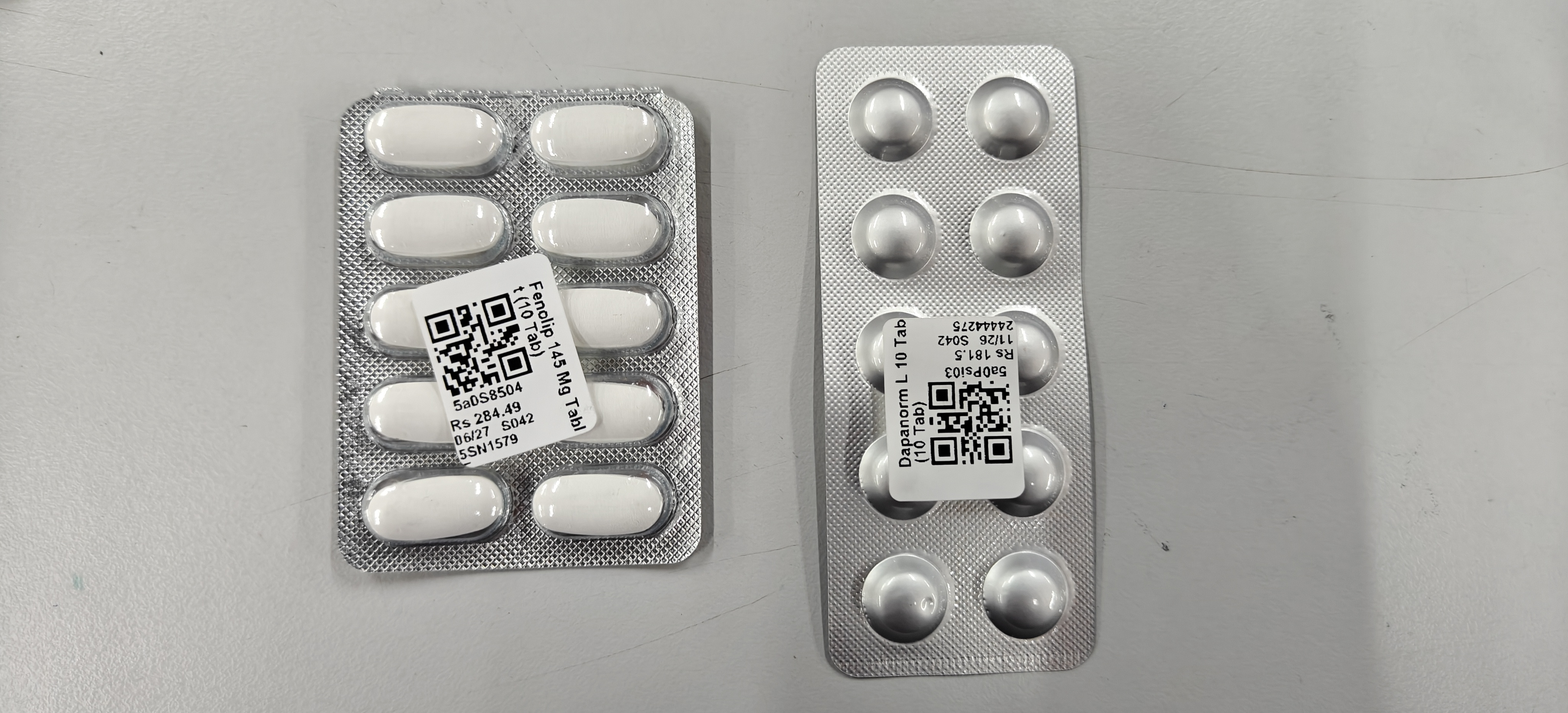qr_code: (424, 293, 532, 397), (927, 379, 1013, 465)
